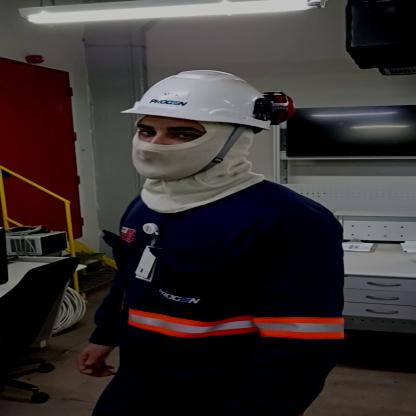Balaclava: (113, 116, 272, 214)
Capacete: (114, 64, 294, 132)
